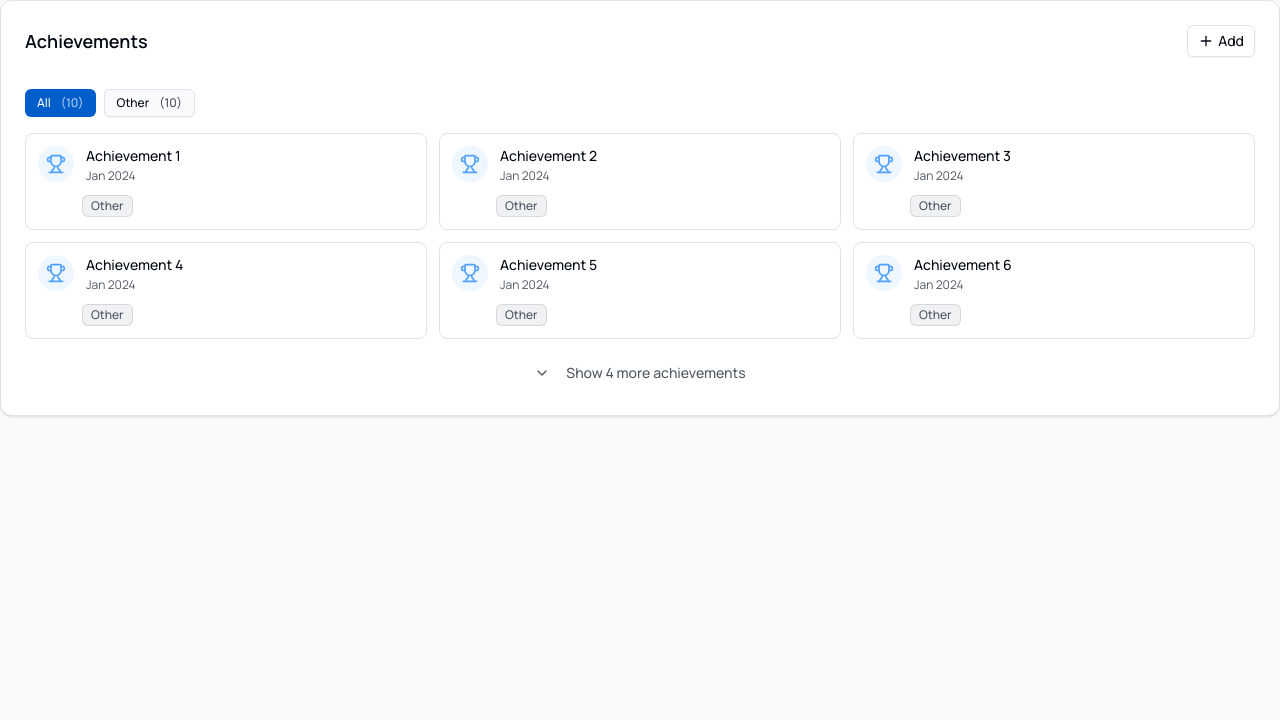
Test: AchievementsSection › collapses when 'Show less' clicked
This screenshot has width=1280, height=720.
Note: First expand
Click the button "Show 4 more achievements". click: [640, 373]
box: [25,355,1255,391]
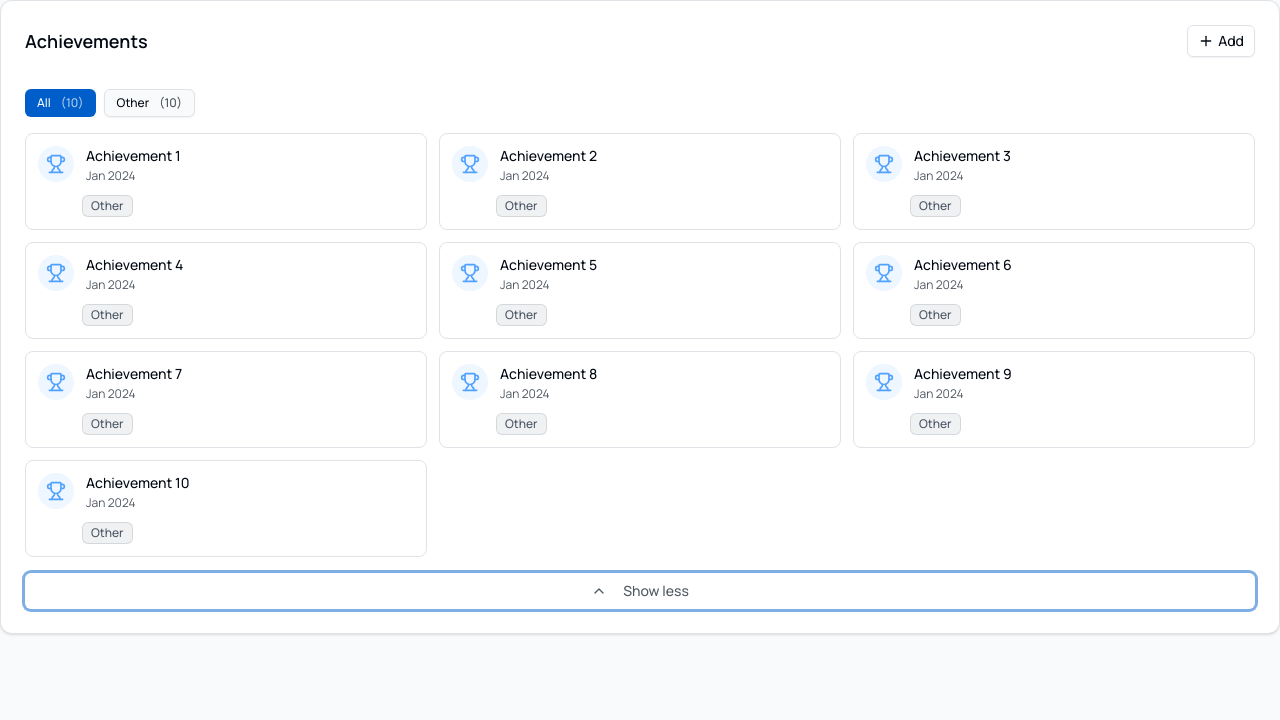
Check: the heading "Achievement 10" is shown, box [86,473,190,492]
Note: Then collapse
Click the button "Show less". click: [640, 591]
box: [25,573,1255,609]
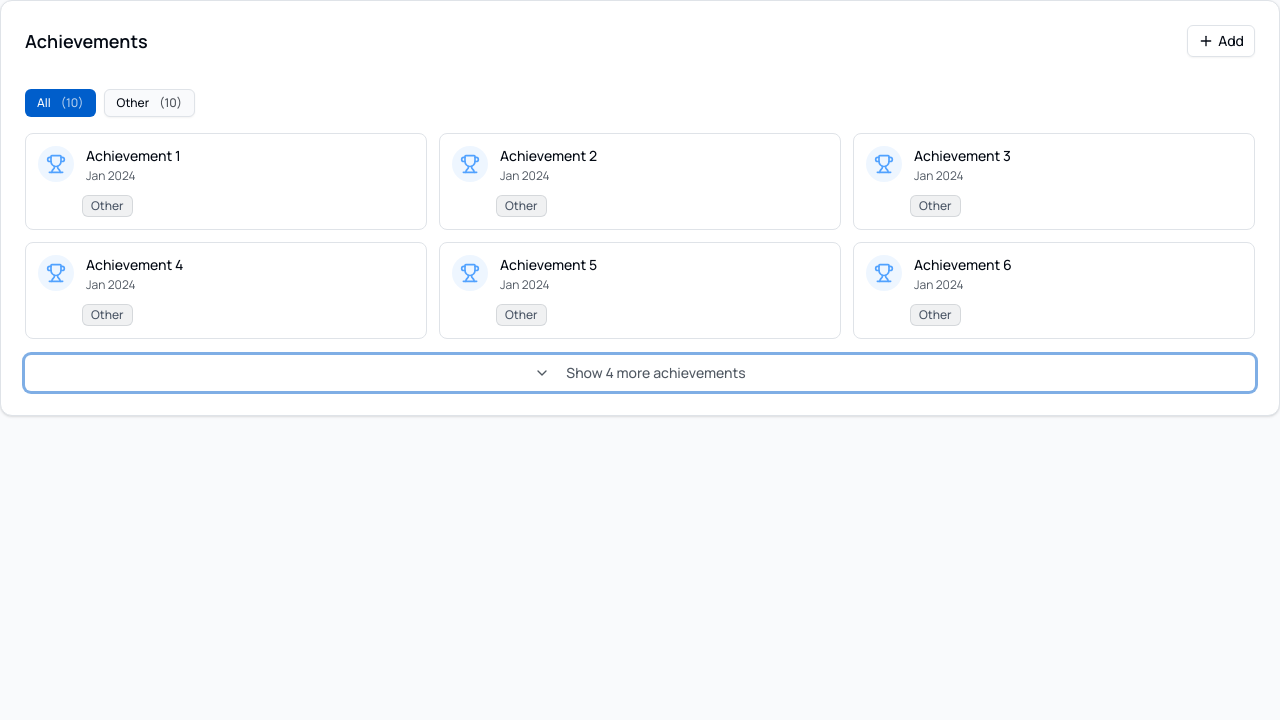
Check: the heading "Achievement 7" is gone
